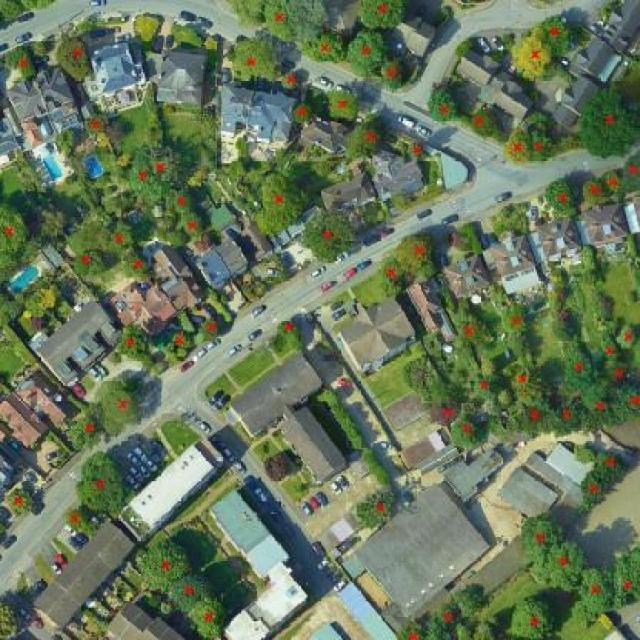tree: (572, 82, 640, 162), (252, 164, 310, 241), (70, 449, 132, 516), (294, 206, 363, 266), (512, 510, 573, 568), (92, 376, 148, 439), (538, 535, 593, 597), (571, 560, 618, 632), (131, 536, 202, 582), (124, 142, 175, 206), (276, 0, 336, 49), (505, 591, 565, 640), (504, 32, 558, 86), (556, 335, 601, 399), (228, 31, 281, 85), (349, 484, 402, 533), (345, 25, 391, 81), (390, 230, 442, 278), (506, 390, 554, 441), (449, 307, 498, 356), (0, 194, 35, 260), (579, 377, 621, 432), (611, 539, 640, 618), (53, 31, 96, 84), (586, 324, 634, 371), (342, 117, 390, 163), (397, 352, 446, 396), (531, 10, 575, 58), (446, 410, 492, 455), (297, 27, 348, 67), (422, 81, 466, 127), (65, 408, 111, 452), (188, 591, 229, 640), (503, 362, 552, 403), (56, 503, 107, 542), (543, 395, 588, 439), (573, 466, 610, 519), (169, 572, 213, 616), (535, 174, 580, 217), (3, 42, 49, 84), (375, 253, 412, 304), (0, 482, 45, 522), (450, 576, 495, 616), (266, 0, 302, 49), (64, 248, 113, 284), (355, 1, 410, 33), (320, 85, 362, 126), (424, 392, 467, 432), (592, 447, 632, 490), (147, 145, 185, 190), (104, 213, 141, 259), (497, 298, 534, 344), (609, 372, 640, 426), (35, 202, 73, 246), (501, 122, 535, 170), (112, 320, 152, 360), (425, 595, 464, 634), (162, 328, 199, 368), (226, 0, 268, 35), (466, 102, 500, 143), (118, 248, 157, 283), (0, 595, 31, 639), (467, 372, 507, 406), (378, 53, 409, 96), (259, 451, 295, 486), (171, 17, 205, 54), (174, 209, 211, 243), (618, 145, 640, 200), (132, 10, 166, 45), (595, 165, 627, 202), (50, 126, 84, 160), (578, 172, 607, 211), (601, 355, 634, 389), (614, 315, 640, 357), (281, 325, 312, 359), (530, 127, 556, 167), (0, 285, 23, 329), (391, 614, 429, 640), (166, 187, 200, 216), (195, 311, 223, 345), (37, 279, 63, 313), (287, 103, 318, 131), (20, 290, 49, 319), (0, 0, 35, 24), (402, 137, 429, 166), (472, 612, 500, 639), (270, 315, 301, 339), (571, 439, 598, 466), (449, 618, 476, 640), (20, 0, 62, 14), (279, 70, 301, 96), (617, 284, 638, 308), (424, 624, 452, 640), (201, 36, 222, 56), (27, 318, 50, 333)
